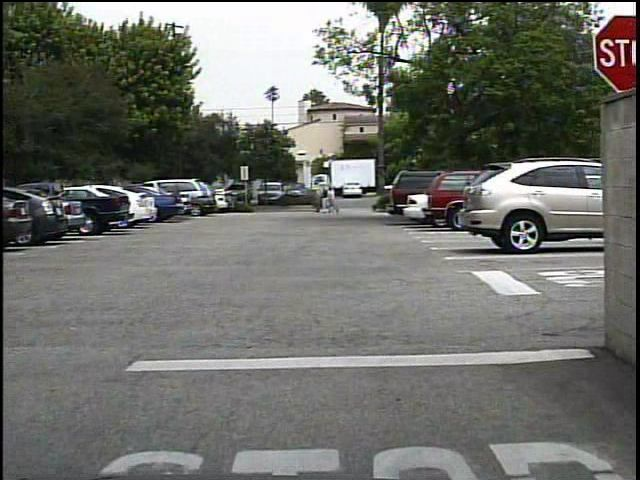person: (326, 186, 344, 216), (310, 186, 325, 215), (320, 186, 333, 217)
